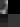potion: (0, 0, 8, 14)
zombie: (0, 14, 8, 27)
